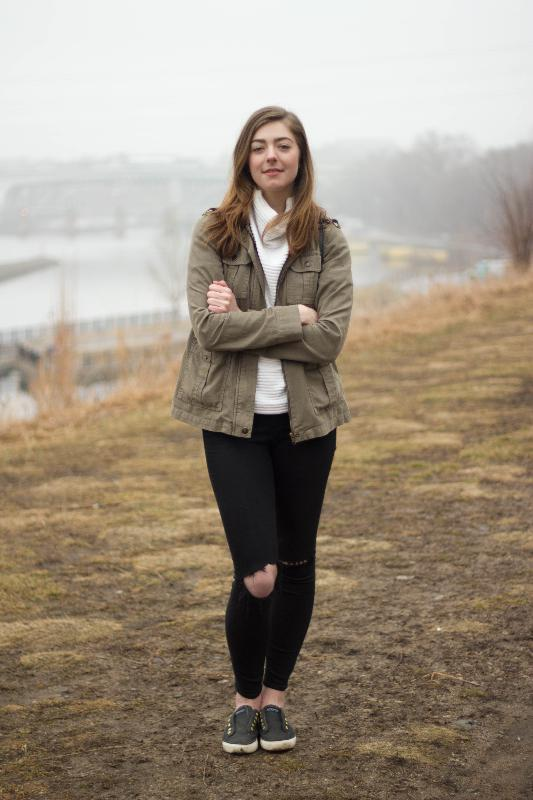Person: (168, 103, 360, 755)
